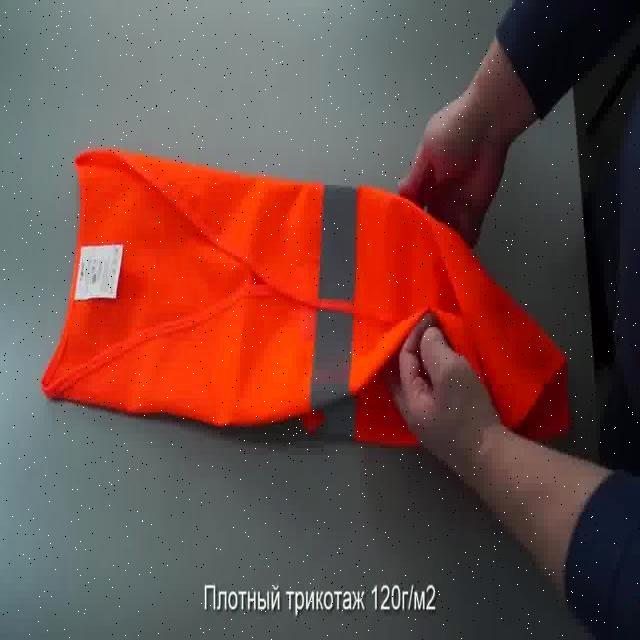Vest: (54, 150, 519, 436)
